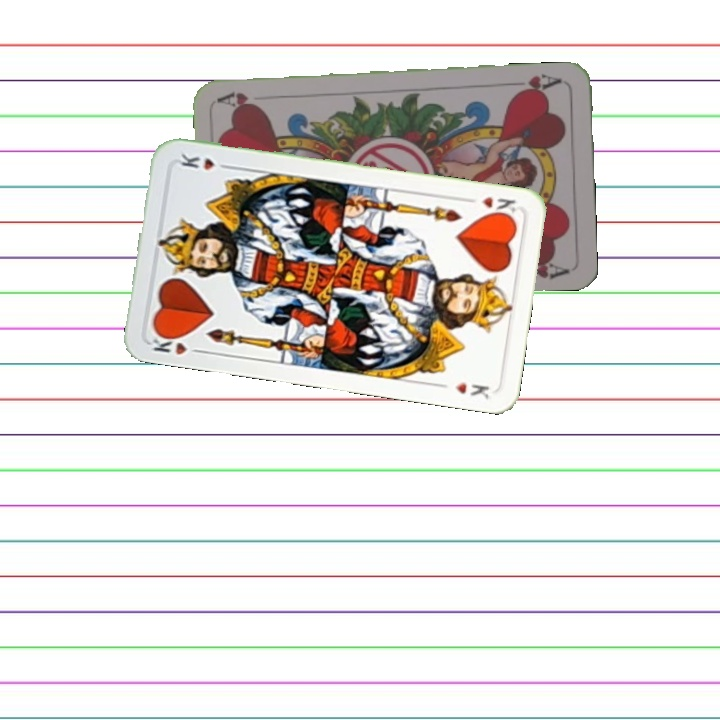HA: (507, 69, 564, 97)
HK: (147, 328, 206, 358), (478, 192, 521, 220)
